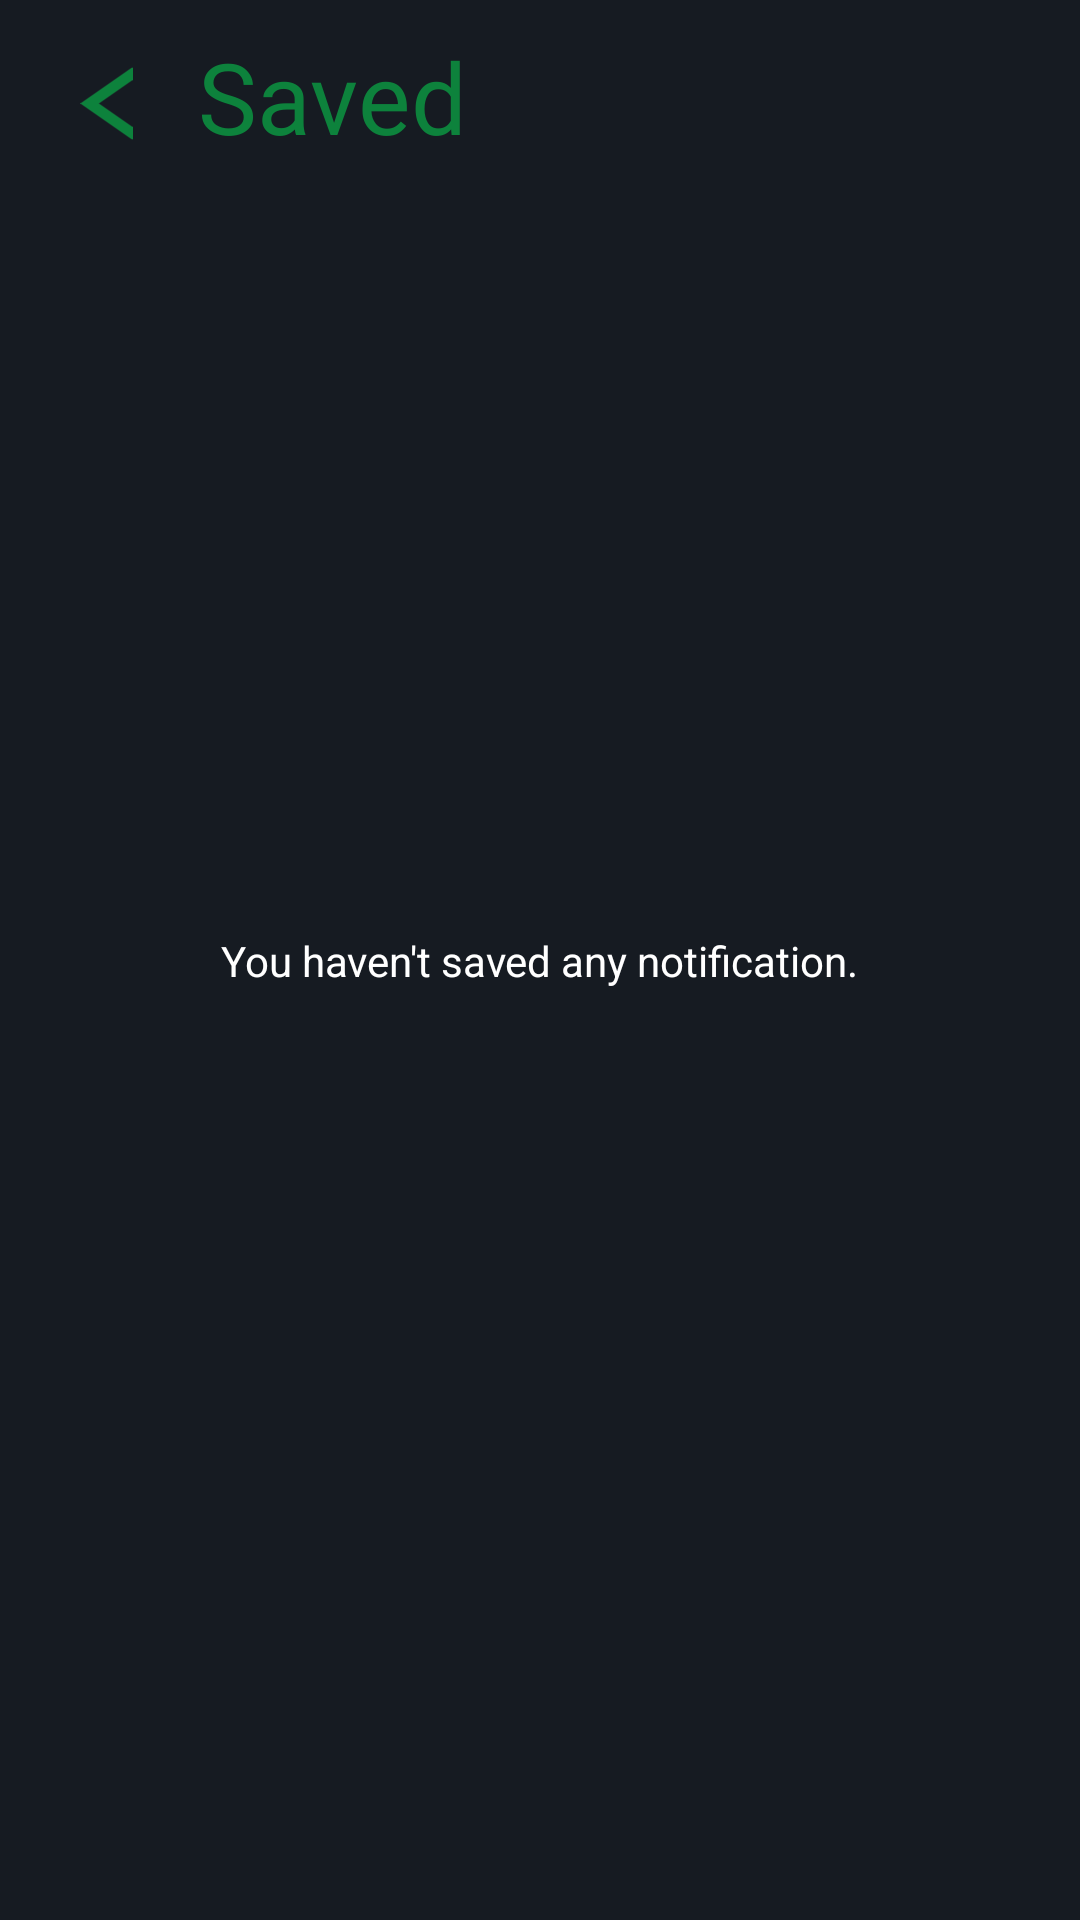

Icon click points for this 1080w x 1920h phone screenshot, format [x,y]:
arrow back: [106,103]
